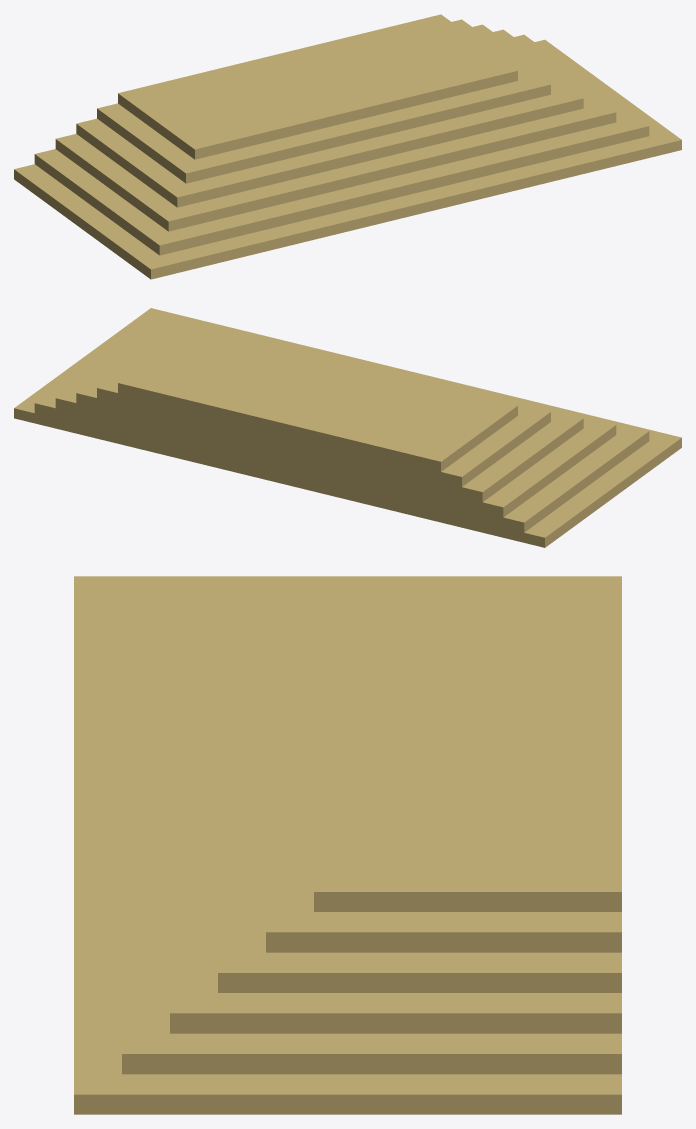
The model's file is Ruins_Steps_Half_01.fbx.
3 views of the same model, one above another, from view 1: azimuth 30°, elevation 25°; view 2: azimuth 150°, elevation 25°; view 3: azimuth 270°, elevation 25° (orthographic). The views are drawn at different scales.
Parts seen in each view (by area): view 1: Model; view 2: Model; view 3: Model.
Part boxes in pixels (box(x1,y1,x2,y2)): Model: box(14, 14, 681, 279); Model: box(14, 308, 681, 547); Model: box(74, 576, 621, 1114).
Size of the model in its own units: 2145 by 235 by 958.
